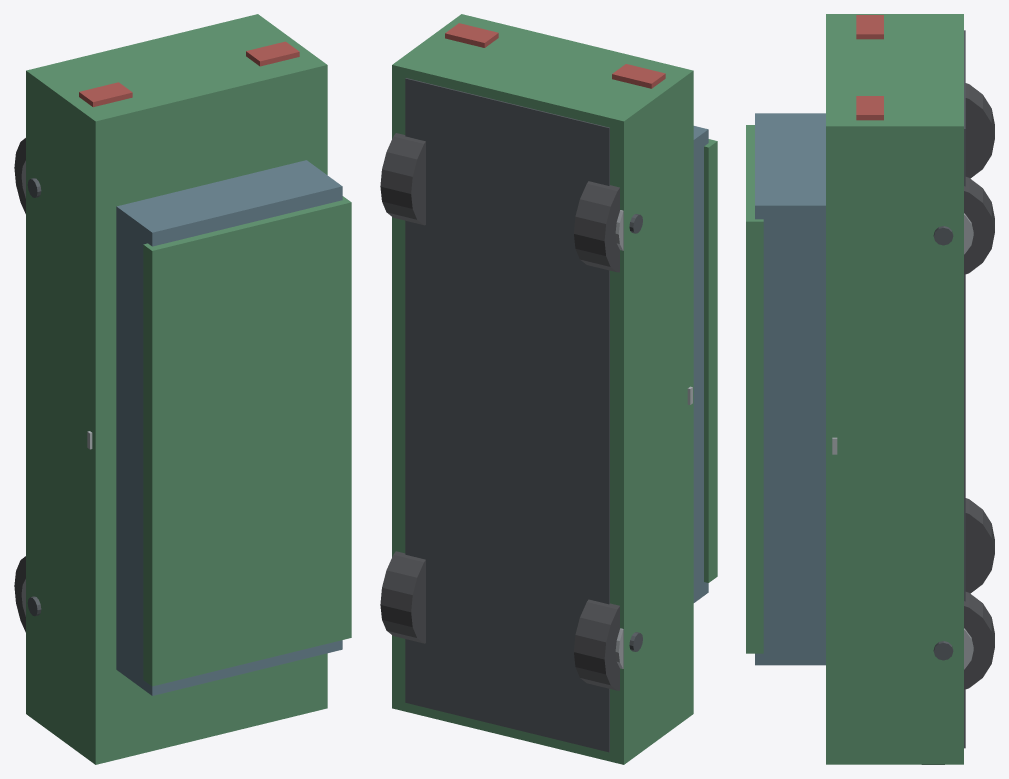
Rendered from station_wagon.glb.
3 renders of one model, left to right at view 1: azimuth 30°, elevation 25°; view 2: azimuth 150°, elevation 25°; view 3: azimuth 270°, elevation 25°, orthographic.
Parts seen in each view (by area): view 1: 0000_Car_body, 0003_Roof, 0002_Cabin_glass, 0009_Tail_lamp, 0007_Tail_lamp; view 2: 0001_Chassis_black, 0000_Car_body, 0003_Roof, 0002_Cabin_glass, 0015_Wheel_tire, 0021_Wheel_tire, 0018_Wheel_tire, 0012_Wheel_tire, 0007_Tail_lamp, 0009_Tail_lamp; view 3: 0000_Car_body, 0002_Cabin_glass, 0003_Roof, 0012_Wheel_tire, 0018_Wheel_tire, 0015_Wheel_tire, 0021_Wheel_tire, 0001_Chassis_black, 0007_Tail_lamp, 0009_Tail_lamp.
Part boxes in pixels (left/top/right/bottom): 0000_Car_body: left=26, top=14, right=327, bottom=764; 0003_Roof: left=143, top=196, right=351, bottom=686; 0002_Cabin_glass: left=116, top=160, right=342, bottom=695; 0009_Tail_lamp: left=246, top=41, right=299, bottom=66; 0007_Tail_lamp: left=79, top=82, right=132, bottom=107; 0001_Chassis_black: left=405, top=78, right=609, bottom=752; 0000_Car_body: left=392, top=14, right=693, bottom=764; 0003_Roof: left=704, top=139, right=717, bottom=582; 0002_Cabin_glass: left=693, top=126, right=708, bottom=602; 0015_Wheel_tire: left=380, top=551, right=425, bottom=643; 0021_Wheel_tire: left=380, top=133, right=425, bottom=225; 0018_Wheel_tire: left=574, top=181, right=619, bottom=272; 0012_Wheel_tire: left=574, top=599, right=619, bottom=690; 0007_Tail_lamp: left=612, top=64, right=665, bottom=88; 0009_Tail_lamp: left=445, top=23, right=498, bottom=47; 0000_Car_body: left=826, top=14, right=963, bottom=764; 0002_Cabin_glass: left=755, top=113, right=825, bottom=665; 0003_Roof: left=746, top=125, right=763, bottom=653; 0012_Wheel_tire: left=965, top=498, right=994, bottom=593; 0018_Wheel_tire: left=965, top=83, right=994, bottom=178; 0015_Wheel_tire: left=964, top=592, right=994, bottom=689; 0021_Wheel_tire: left=964, top=177, right=994, bottom=274; 0001_Chassis_black: left=964, top=30, right=965, bottom=748; 0007_Tail_lamp: left=856, top=15, right=883, bottom=39; 0009_Tail_lamp: left=856, top=96, right=883, bottom=120.
Bounding box in the file's own units: 1.87 × 4.9 × 1.7.
